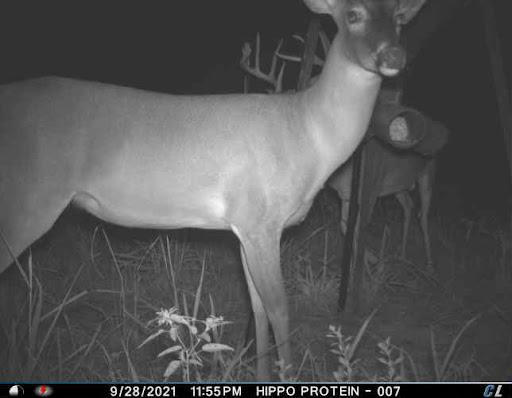Deer: (4, 0, 438, 384), (236, 20, 447, 274)
